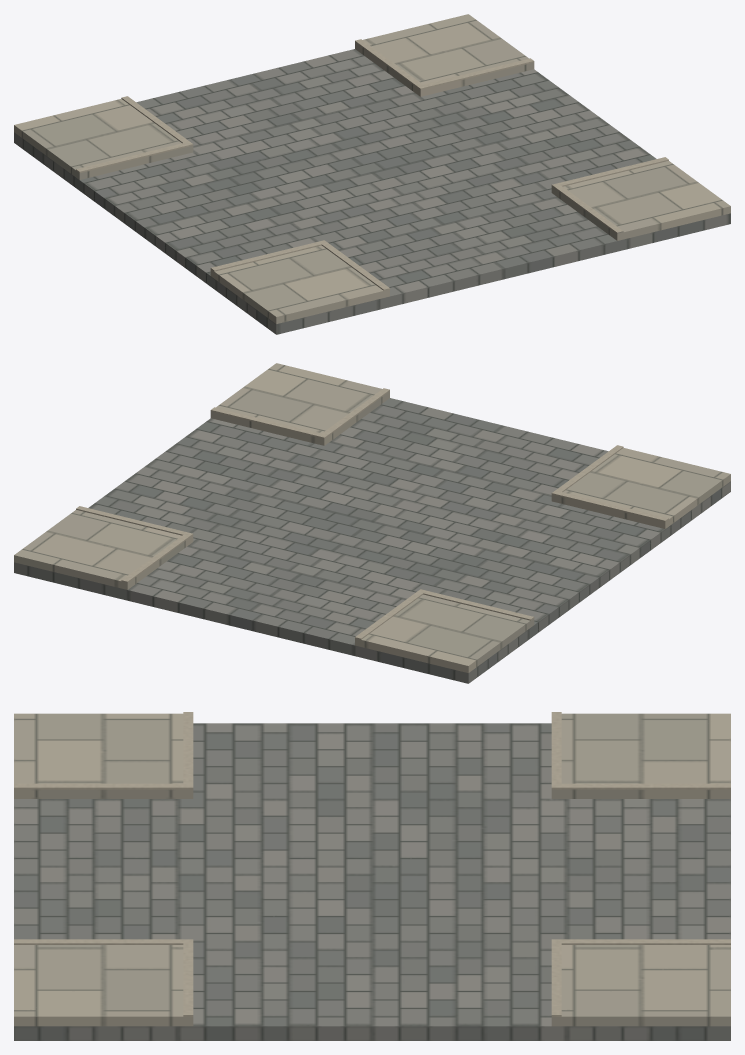
The model's file is Road_Cross.fbx.
3 views of the same model, one above another, from view 1: azimuth 30°, elevation 25°; view 2: azimuth 150°, elevation 25°; view 3: azimuth 270°, elevation 25° (orthographic). The views are drawn at different scales.
Visible parts, largest first — view 1: Road_Cross.001; view 2: Road_Cross.001; view 3: Road_Cross.001.
Part boxes in pixels (box(x1,y1,x2,y2)): Road_Cross.001: box(14, 14, 730, 334); Road_Cross.001: box(14, 363, 730, 683); Road_Cross.001: box(14, 712, 730, 1040).
Size of the model in its own units: 8 by 0.3195 by 8.
